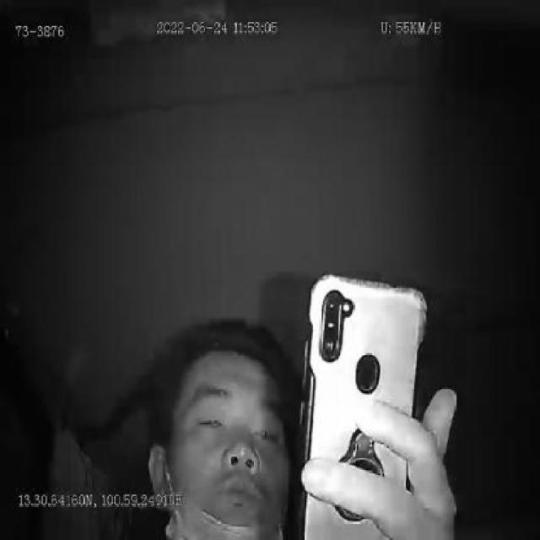phone: (304, 265, 431, 540)
